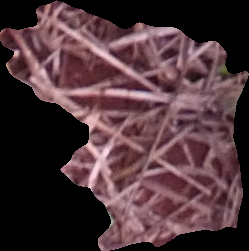soil: (1, 1, 247, 249)
